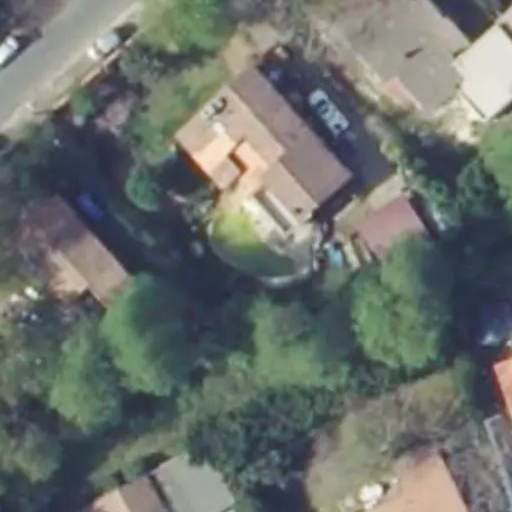pool: (195, 226, 311, 275)
